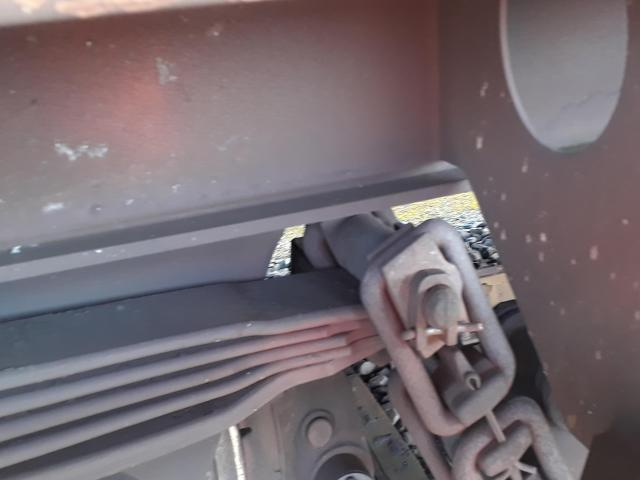blattfederww: (8, 272, 348, 457)
